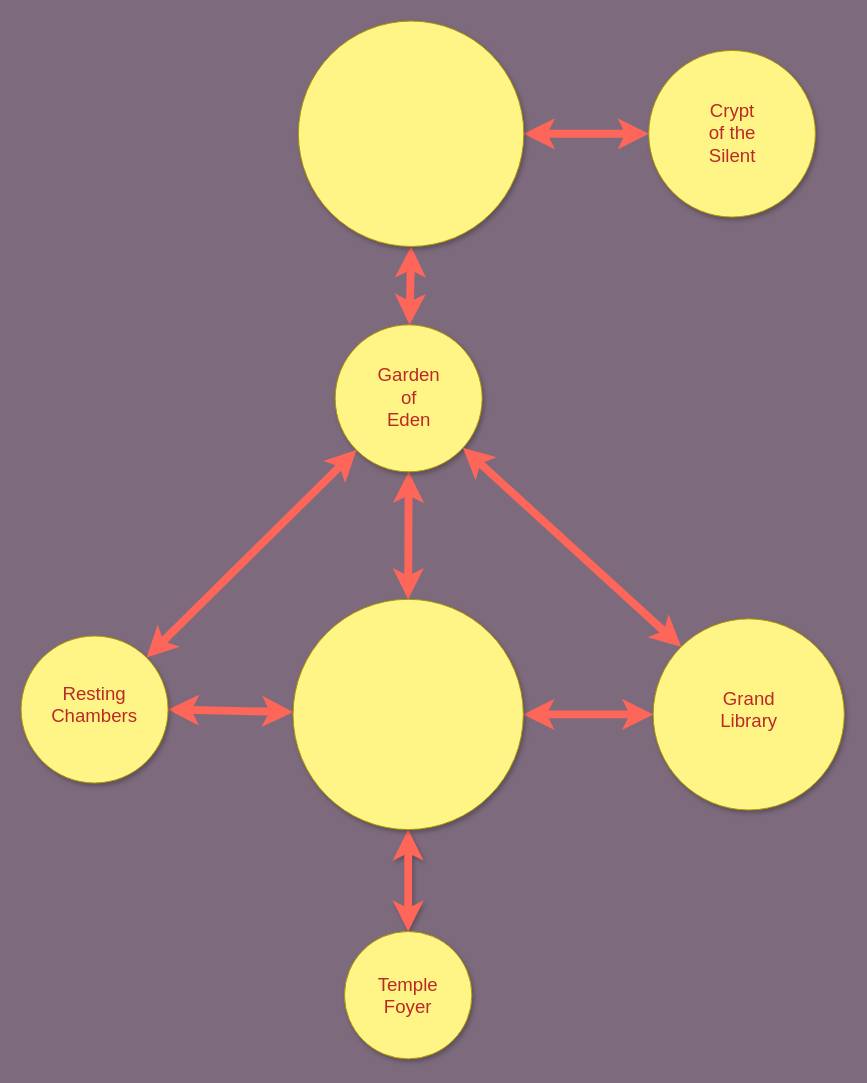
The diagram is 867 pixels wide and 1083 high, and some of its shapes have lost their labels. The centre of each missing label's shape, as x and y in pixels:
"Chapel of Worship" belongs at pixel 412 134.
"Prayer Hall" belongs at pixel 408 715.
